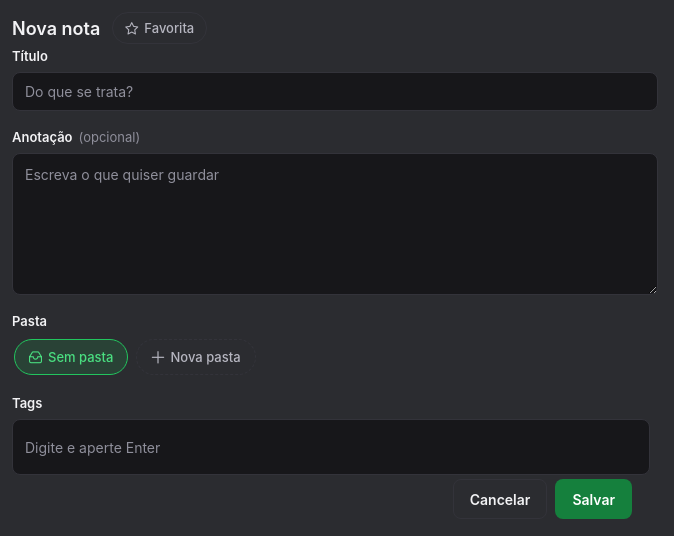
NoteFormModal › a comma closes the tag, and pasting "a, b, c" creates three
Type "roteiro," into the field with id "note-tags" at [331, 447], box [21,434,641,460]
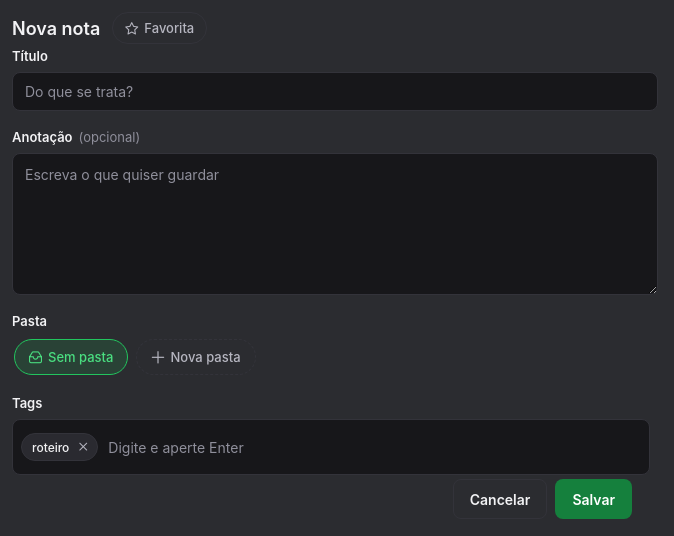
Type "a, b, c" into the field with id "note-tags" at [373, 447], box [104,434,641,460]
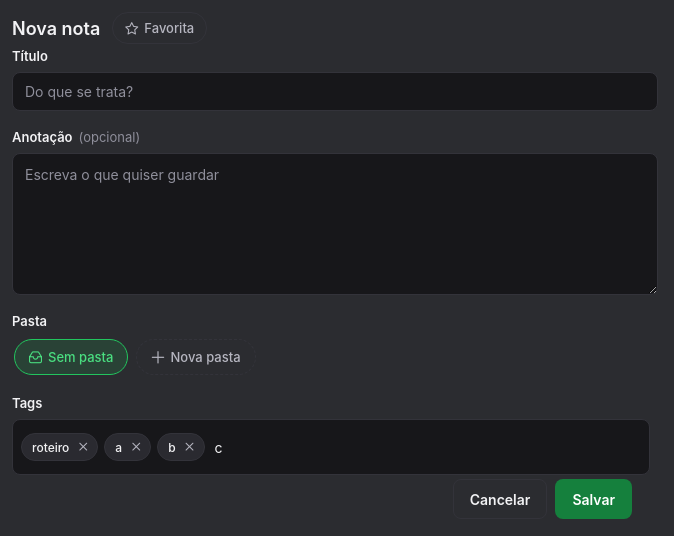
Check: the field with id "note-tags" holds "c", box [211,434,641,460]
